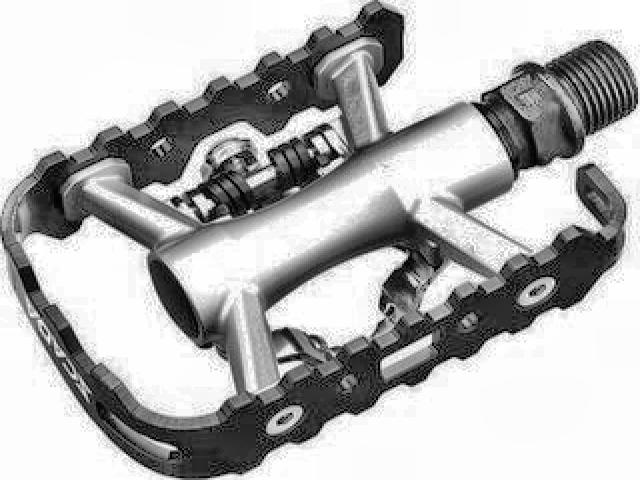pedal: (4, 4, 640, 477)
